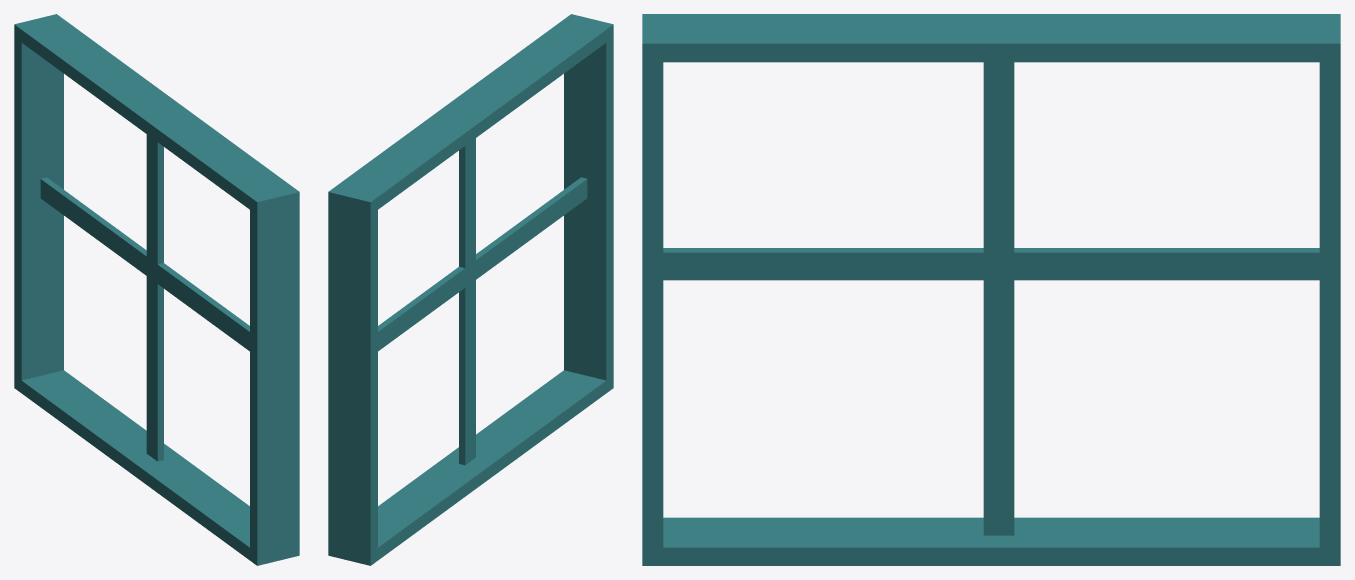
The model's file is Bed Window Low.fbx.
The picture shows the model from 3 angles, left to right: view 1: azimuth 30°, elevation 25°; view 2: azimuth 150°, elevation 25°; view 3: azimuth 270°, elevation 25°; orthographic projection. The views are drawn at different scales.
Visible parts, largest first — view 1: Window_01_low; view 2: Window_01_low; view 3: Window_01_low.
Part boxes in pixels (bbox=[...]): Window_01_low: bbox=[14, 14, 299, 565]; Window_01_low: bbox=[328, 14, 613, 565]; Window_01_low: bbox=[642, 14, 1340, 565].
Size of the model in its own units: 0.1291 by 1.06 by 1.28.
